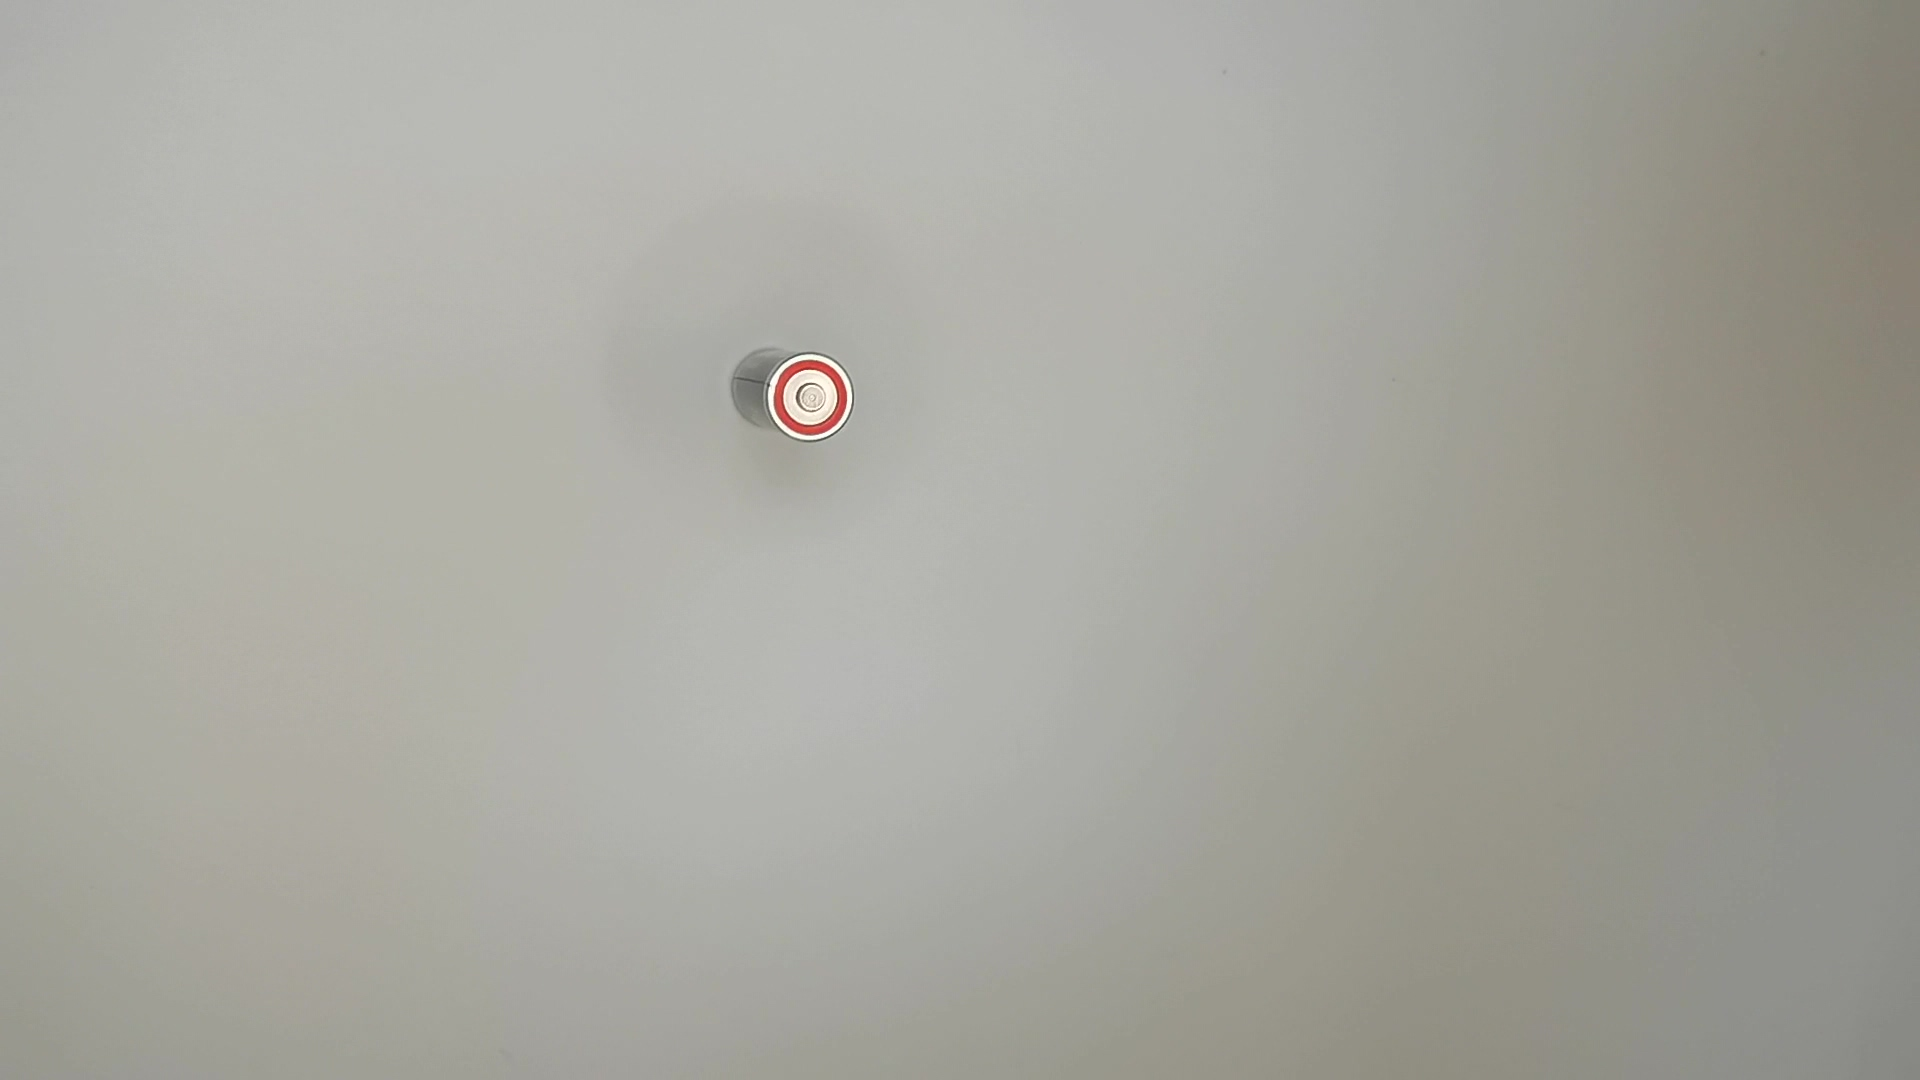battery: (725, 342, 858, 448)
